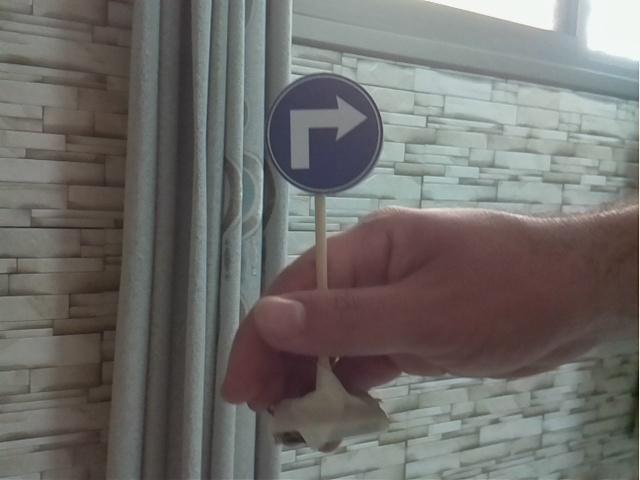turn: (260, 71, 387, 196)
